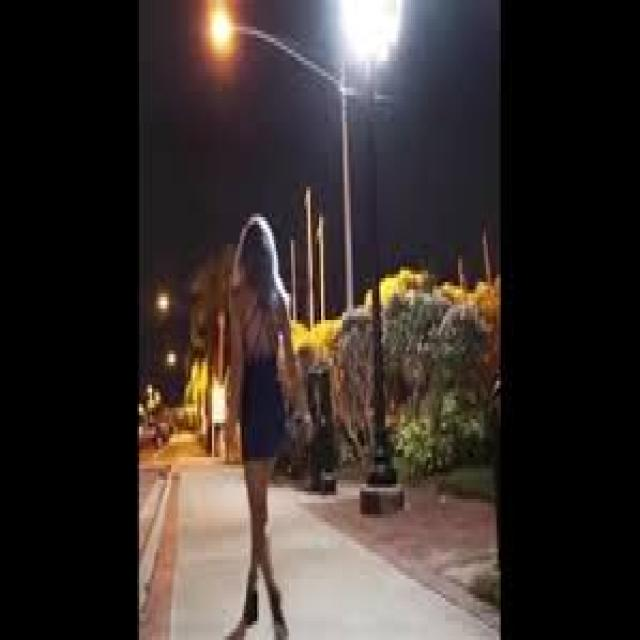Street Light: (210, 11, 357, 396)
